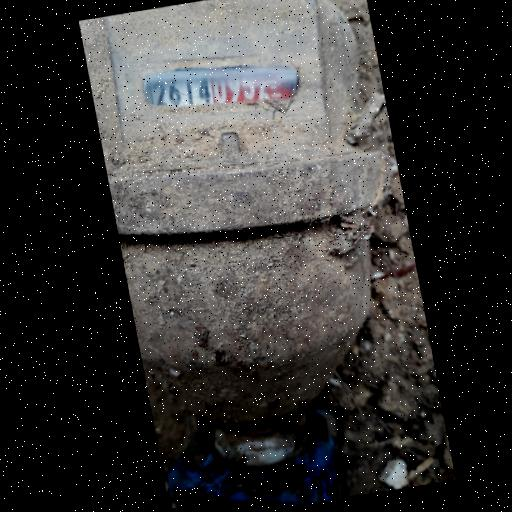0: (207, 69, 233, 107)
1: (179, 71, 202, 107)
2: (147, 74, 172, 110)
4: (193, 70, 217, 107)
5: (236, 68, 260, 105)
6: (162, 72, 188, 109), (251, 67, 275, 106)
9: (223, 68, 247, 106)
border_water_meter_number: (136, 39, 308, 133)
